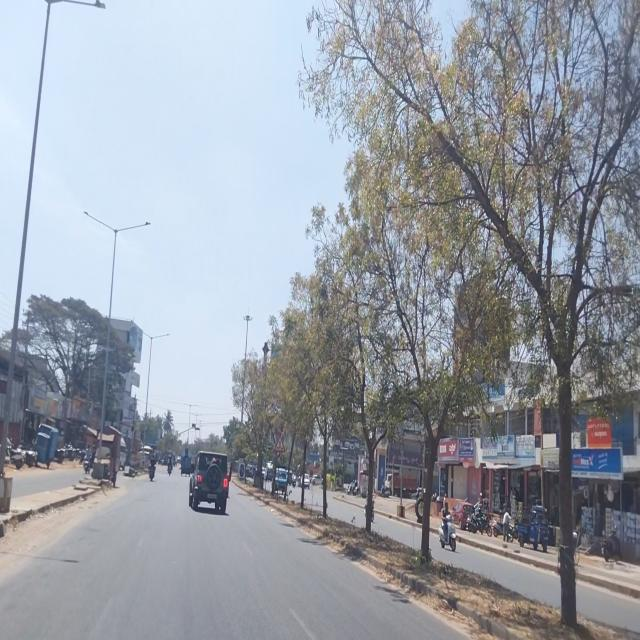bien_cam: (274, 434, 286, 454)
